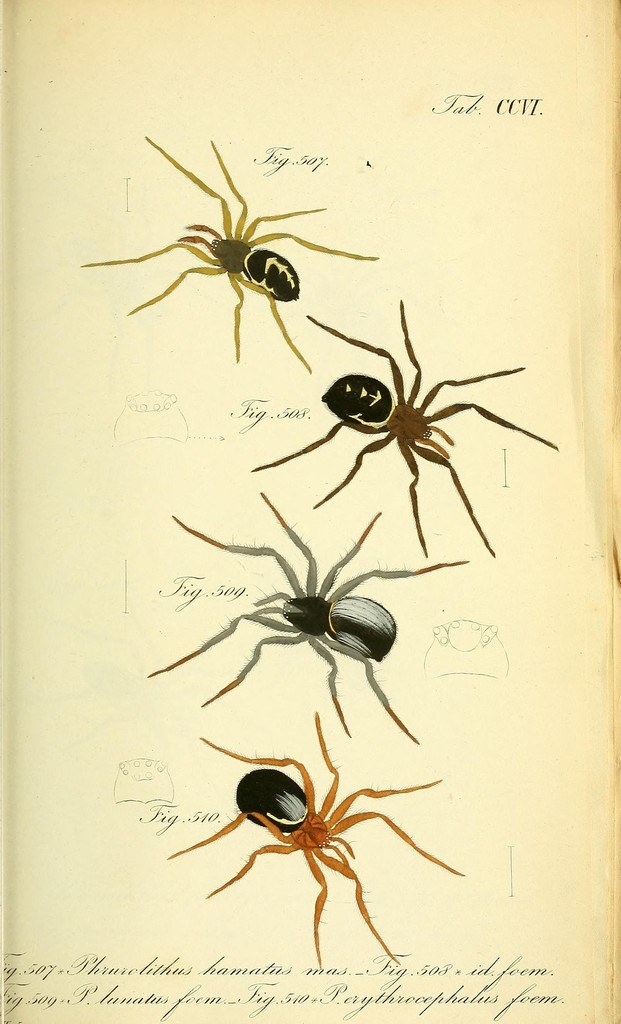insect: (72, 134, 558, 973), (132, 486, 471, 750), (239, 295, 561, 561), (143, 492, 474, 749), (247, 294, 563, 557), (162, 708, 470, 974), (74, 131, 389, 379), (165, 711, 455, 970), (79, 132, 382, 370)
